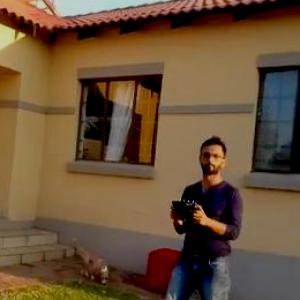follow: (149, 128, 251, 299)
null: (68, 234, 117, 288)
